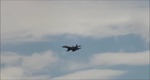maybay_muctieu: (64, 42, 82, 54)
